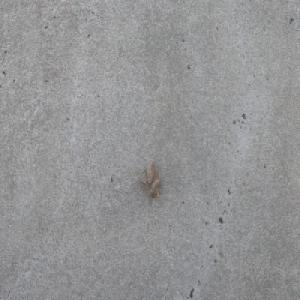Rock: (138, 159, 161, 199)
